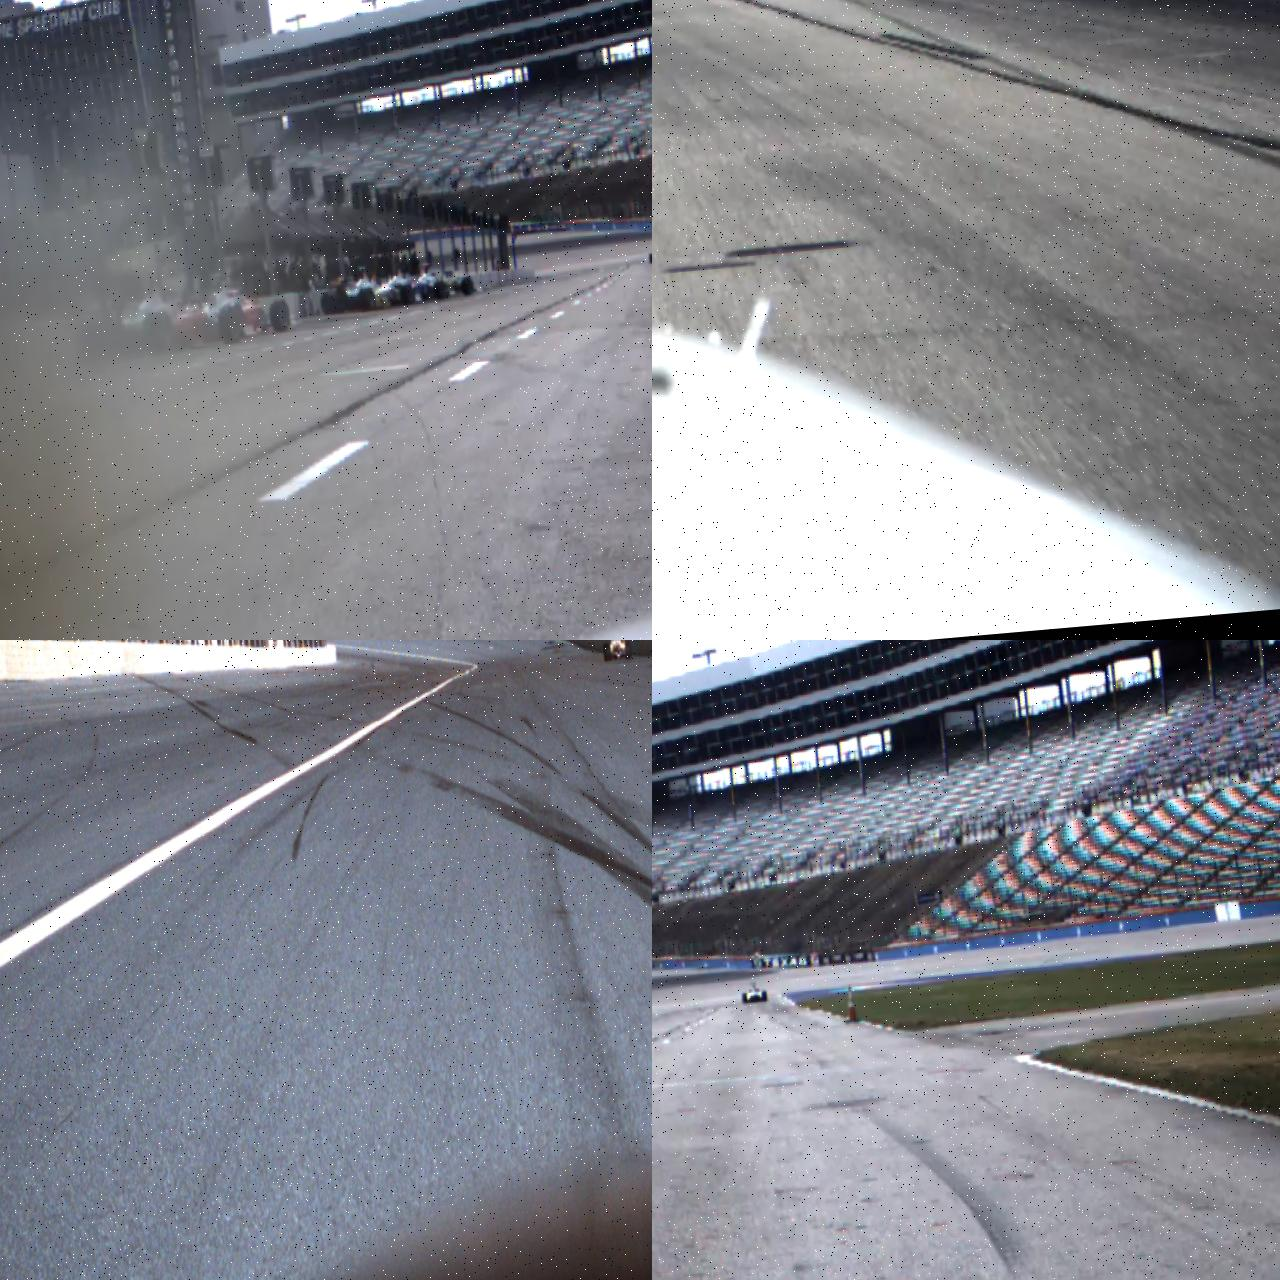AV: (601, 640, 631, 661), (741, 981, 768, 1004)
Wheel: (141, 312, 173, 353), (217, 302, 246, 344), (269, 299, 292, 333), (357, 288, 377, 312), (400, 285, 414, 306), (433, 281, 448, 300), (460, 276, 474, 296), (624, 640, 632, 659), (603, 644, 611, 662), (742, 993, 748, 1004), (763, 990, 768, 1001), (649, 253, 652, 263)
